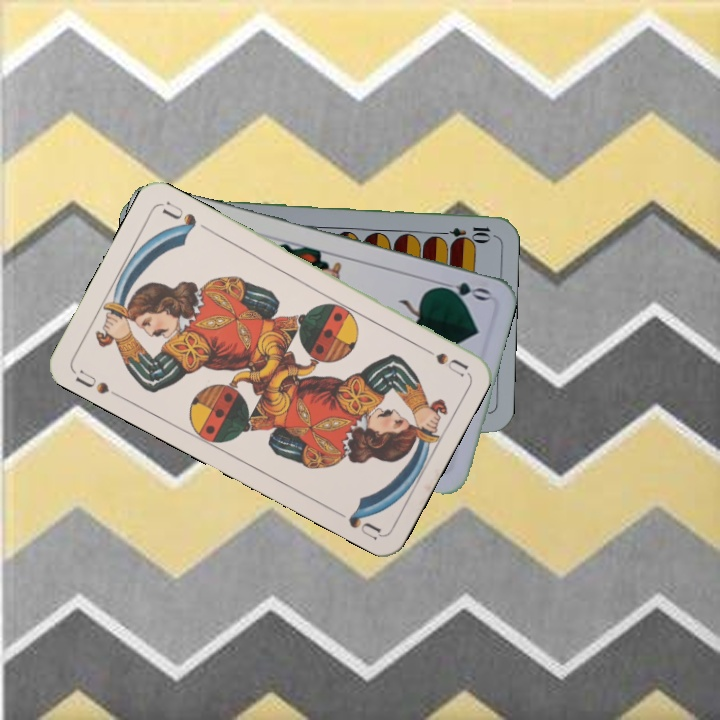E10: (434, 222, 493, 241)
GO: (432, 277, 492, 304)
SU: (414, 340, 471, 379), (71, 365, 112, 397)
